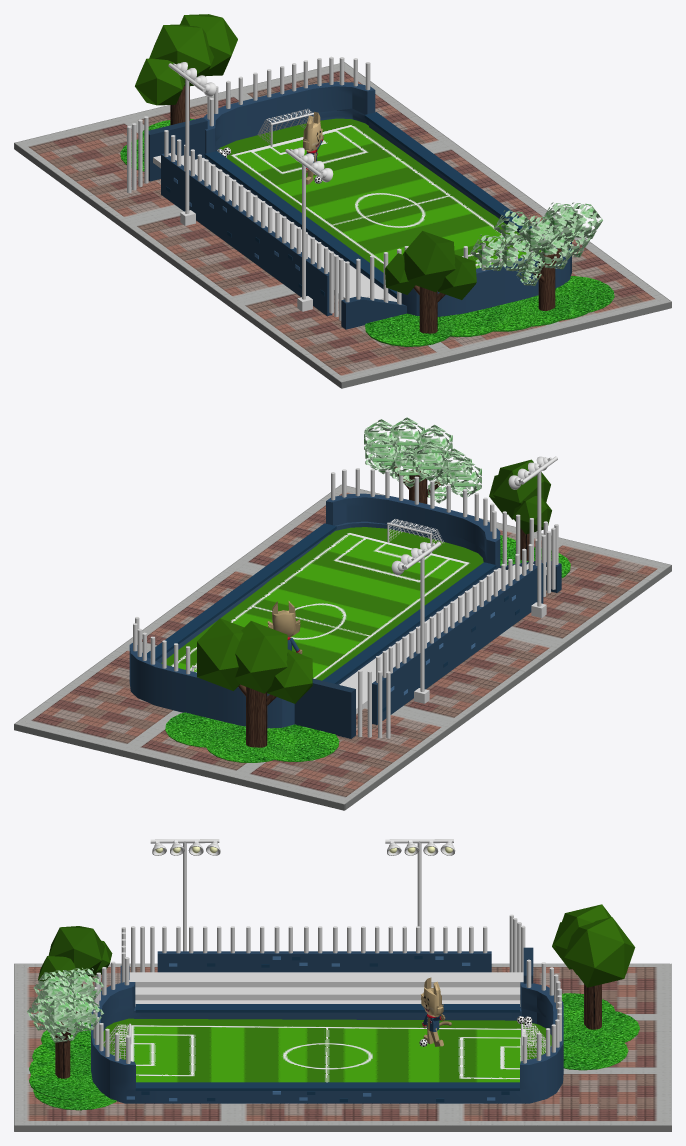
The model's file is cancha.fbx.
3 views of the same model, one above another, from view 1: azimuth 30°, elevation 25°; view 2: azimuth 150°, elevation 25°; view 3: azimuth 270°, elevation 25° (orthographic).
Parts seen in each view (by area): view 1: piso_tabiques, cancha_verde, cancha_azul, pared1_azul, arbol_3, pastos, arbol1, arbol2, superficie_azul2, piso_atras, piso_izquierda, superficie_azul1 (+9 smaller); view 2: piso_tabiques, cancha_verde, cancha_azul, arbol1, pared1_azul, arbol_3, pastos2, pared_azul, arbol2, superficie_azul1, piso_atras, superficie_azul2 (+10 smaller); view 3: piso_tabiques, cancha_verde, cancha_azul, pared1_azul, escalera3, arbol1, escalera1, arbol_3, piso_frente, pastos2, pastos, superficie_azul1 (+8 smaller).
Part boxes in pixels (bbox=[...]): piso_tabiques: bbox=[15, 63, 670, 381]; cancha_verde: bbox=[219, 118, 541, 272]; cancha_azul: bbox=[203, 81, 571, 316]; pared1_azul: bbox=[161, 153, 332, 316]; arbol_3: bbox=[470, 202, 602, 310]; pastos: bbox=[365, 276, 614, 346]; arbol1: bbox=[135, 14, 237, 125]; arbol2: bbox=[385, 231, 476, 333]; superficie_azul2: bbox=[204, 151, 396, 296]; piso_atras: bbox=[14, 143, 341, 388]; piso_izquierda: bbox=[341, 301, 671, 388]; superficie_azul1: bbox=[364, 112, 531, 230]; piso_tabiques: bbox=[15, 485, 670, 803]; cancha_verde: bbox=[161, 527, 483, 680]; cancha_azul: bbox=[129, 493, 500, 728]; arbol1: bbox=[197, 618, 312, 747]; pared1_azul: bbox=[372, 563, 543, 724]; arbol_3: bbox=[364, 417, 481, 503]; pastos2: bbox=[165, 712, 339, 762]; pared_azul: bbox=[294, 678, 355, 738]; arbol2: bbox=[489, 459, 551, 560]; superficie_azul1: bbox=[147, 523, 336, 660]; piso_atras: bbox=[345, 565, 671, 810]; superficie_azul2: bbox=[322, 562, 496, 684]; piso_tabiques: bbox=[14, 964, 670, 1125]; cancha_verde: bbox=[103, 1018, 551, 1082]; cancha_azul: bbox=[91, 982, 563, 1103]; pared1_azul: bbox=[157, 951, 491, 972]; escalera3: bbox=[129, 972, 523, 987]; arbol1: bbox=[552, 904, 635, 1029]; escalera1: bbox=[135, 987, 520, 1000]; arbol_3: bbox=[27, 967, 103, 1078]; piso_frente: bbox=[14, 1125, 671, 1131]; pastos2: bbox=[562, 993, 639, 1070]; pastos: bbox=[29, 996, 116, 1110]; superficie_azul1: bbox=[135, 1082, 519, 1090].
Bounding box in the file's own units: 8.44 × 3.76 × 14.48.
Materials: 39 (11 with a texture image).
